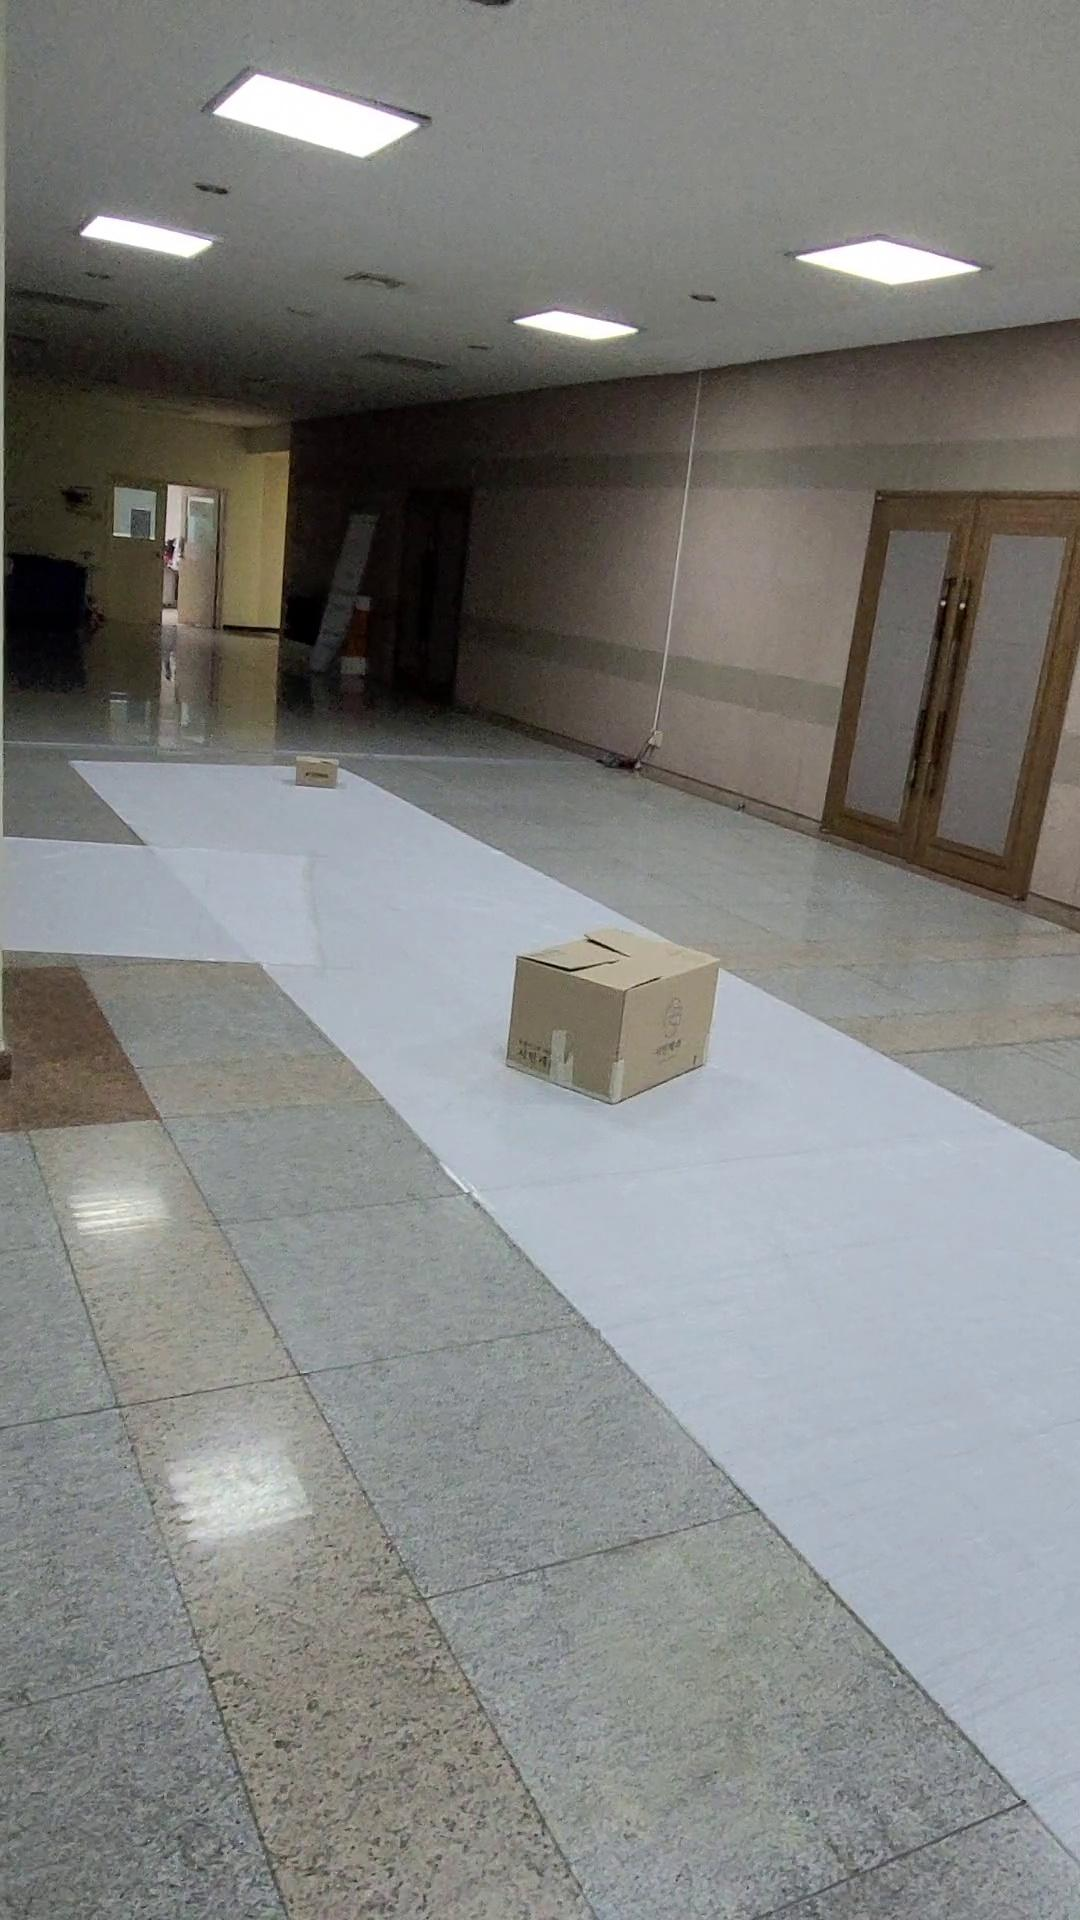Box: (477, 930, 744, 1125), (262, 733, 345, 798)
